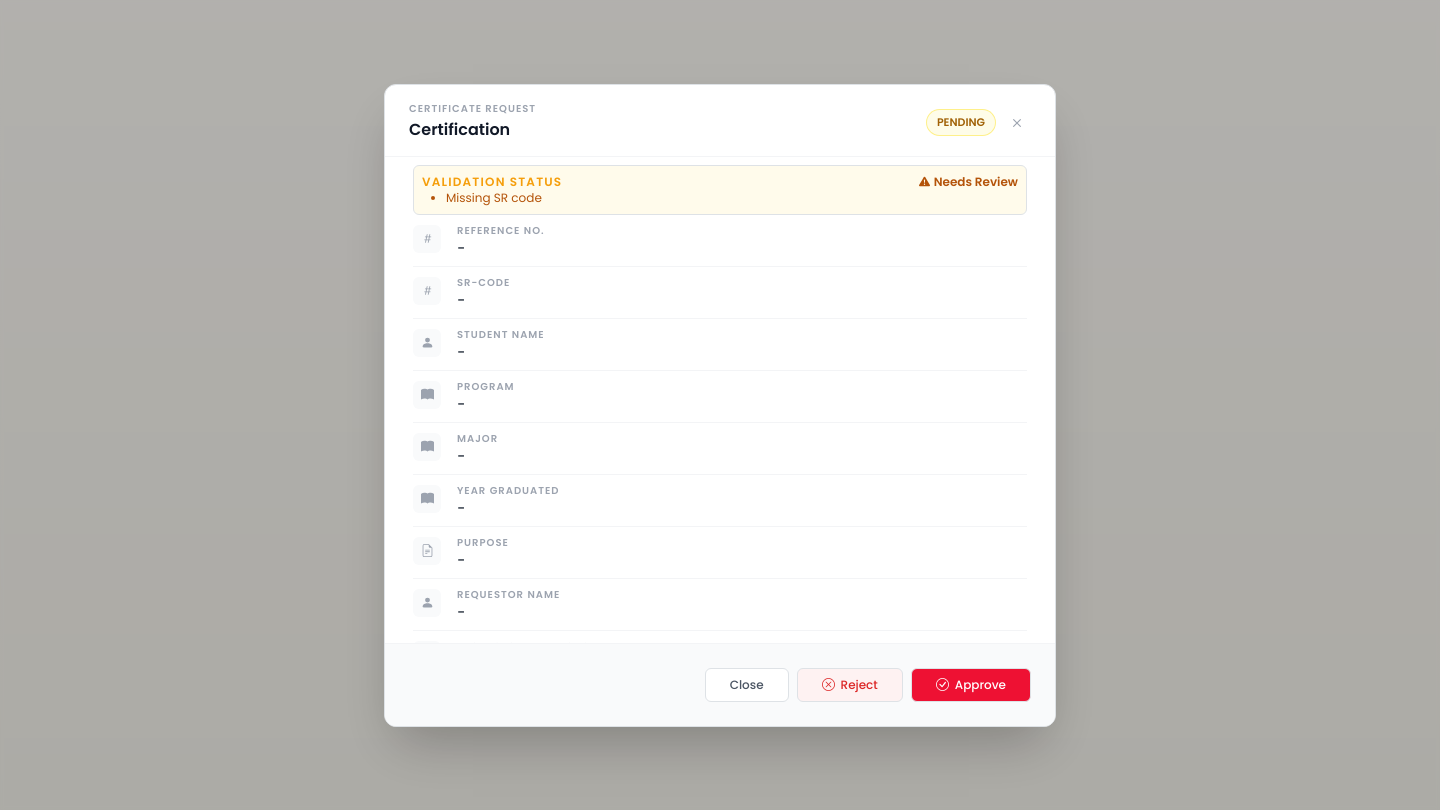
RequestModal › adds suggested decline note from validation flags
Click the button "Reject": click(850, 684) [796,668,903,702]
(page scrolled)
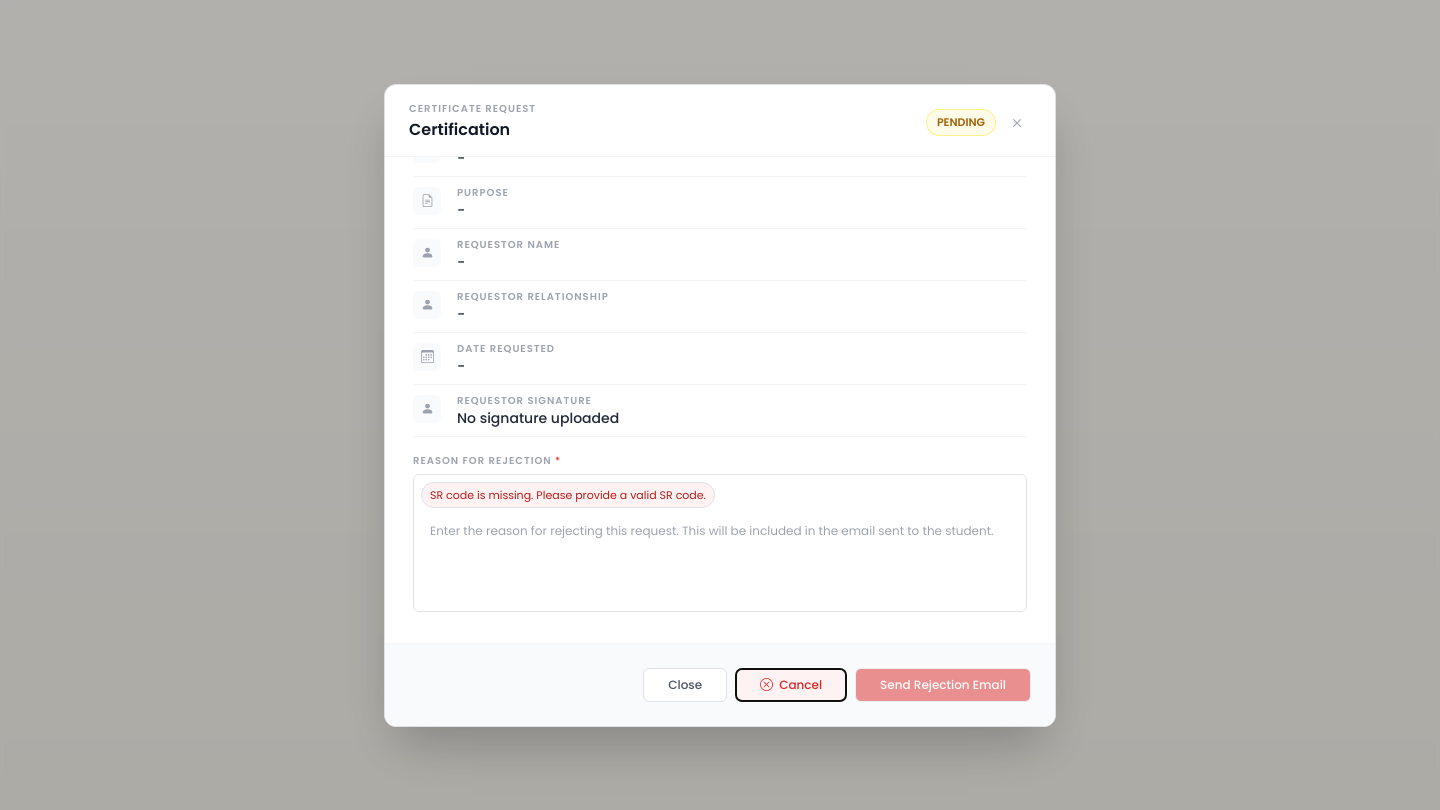
Click the button "SR code is missing. Please provide a valid SR code.": click(568, 495) [421,482,715,508]
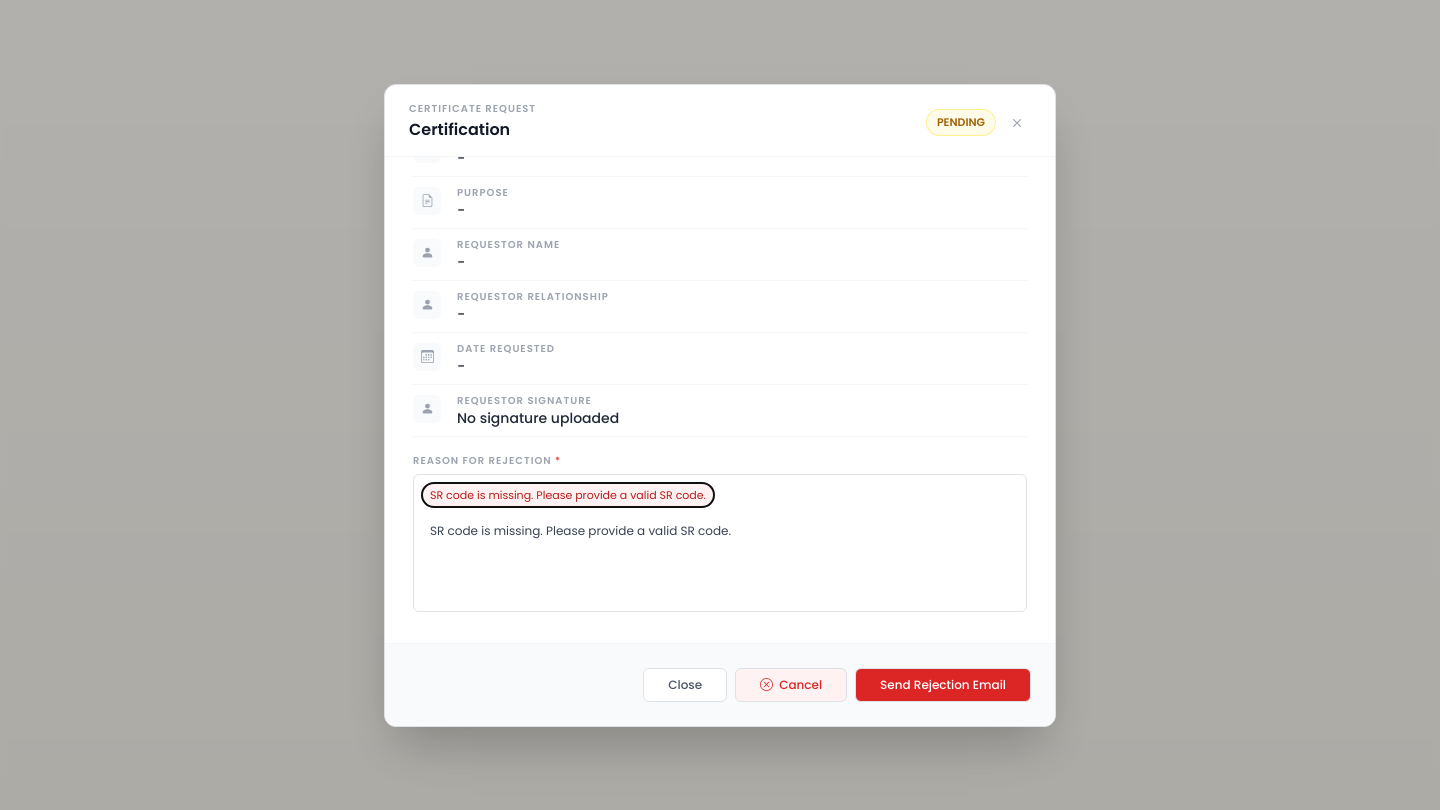
Now the text box with placeholder "reason for rejecting" holds "SR code is missing. Please provide a valid SR code.", box [413,474,1027,612]
